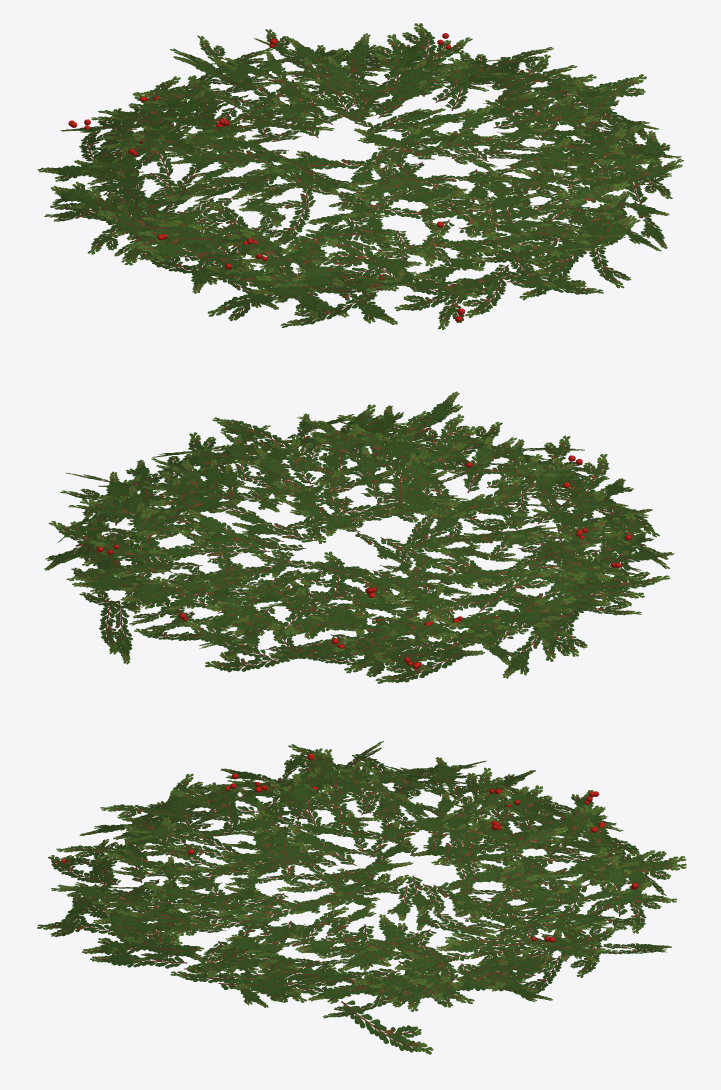
Rendered from kinnikinnick.glb.
3 renders of one model, top to bottom at view 1: azimuth 30°, elevation 25°; view 2: azimuth 150°, elevation 25°; view 3: azimuth 270°, elevation 25°, orthographic. The views are drawn at different scales.
Visible parts, largest first — view 1: kinnikinnick_a_lod0, kinnikinnick_a_berries; view 2: kinnikinnick_a_lod0, kinnikinnick_a_berries; view 3: kinnikinnick_a_lod0, kinnikinnick_a_berries.
Boxes of the visible parts, x1,y1,x2,y2 form: kinnikinnick_a_lod0: [37, 23, 683, 329]; kinnikinnick_a_berries: [68, 33, 465, 321]; kinnikinnick_a_lod0: [44, 391, 674, 683]; kinnikinnick_a_berries: [97, 455, 631, 668]; kinnikinnick_a_lod0: [37, 741, 686, 1054]; kinnikinnick_a_berries: [61, 753, 638, 942].
Size of what is drawn, in the model's own units: 1.73 by 0.2804 by 1.75.
2 materials, 1 textured.
